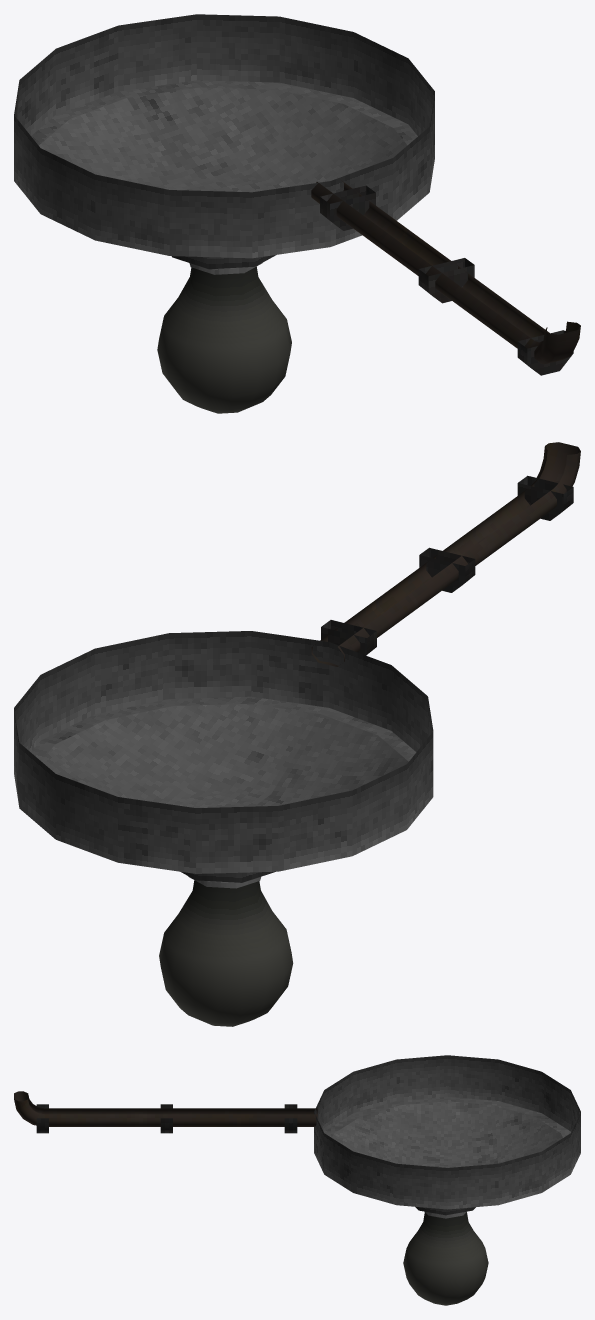
The model's file is ceiling_lamp_mp_1_off.glb.
3 renders of one model, top to bottom at view 1: azimuth 30°, elevation 25°; view 2: azimuth 150°, elevation 25°; view 3: azimuth 270°, elevation 25°, orthographic. The views are drawn at different scales.
Visible parts, largest first — view 1: ceiling_lamp_mp_1_off; view 2: ceiling_lamp_mp_1_off; view 3: ceiling_lamp_mp_1_off.
Boxes of the visible parts, box(x1,y1,x2,y2) form: ceiling_lamp_mp_1_off: box(14, 14, 580, 413); ceiling_lamp_mp_1_off: box(14, 442, 580, 1026); ceiling_lamp_mp_1_off: box(14, 1055, 580, 1305).
Bounding box in the file's own units: 0.215 × 0.1827 × 0.4568.
4 materials, 4 textured.
